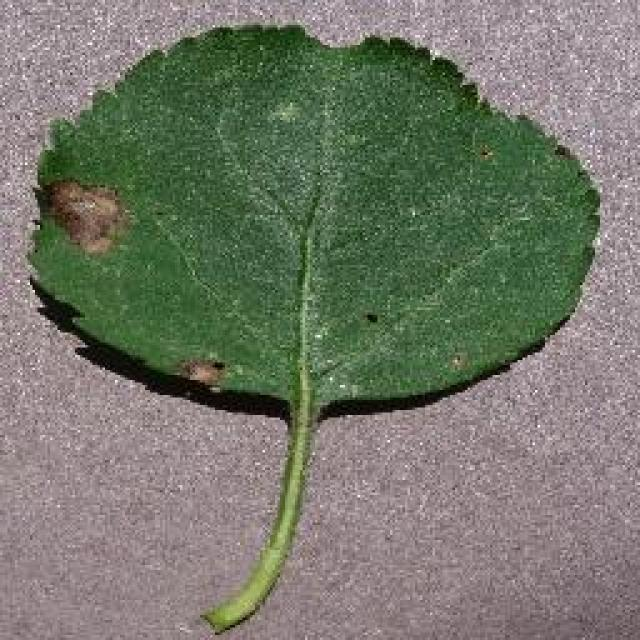Black_rot: (25, 20, 600, 635)
